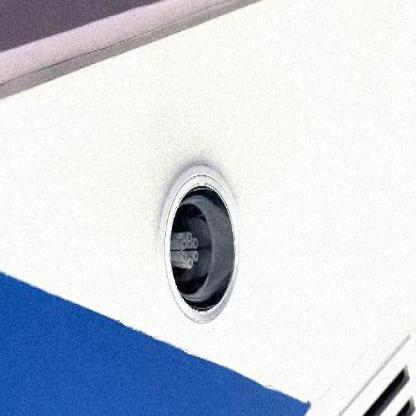light_off: (141, 125, 254, 346)
